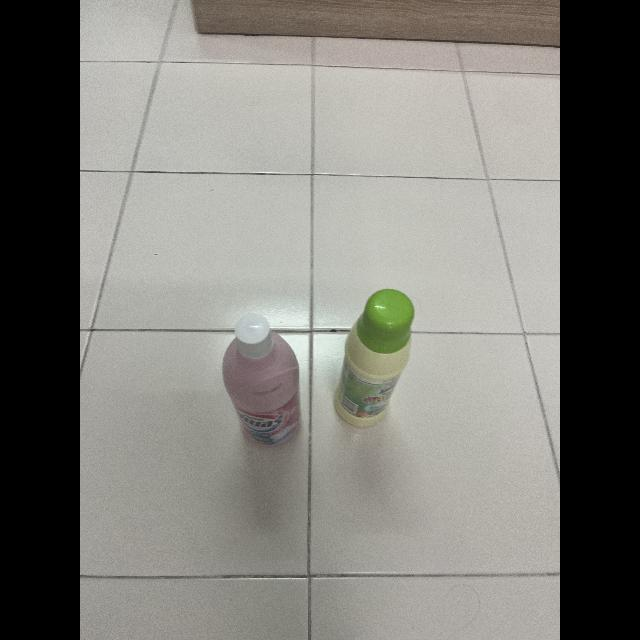chemical_plastic_bottle: (329, 282, 419, 423), (216, 311, 302, 447)
